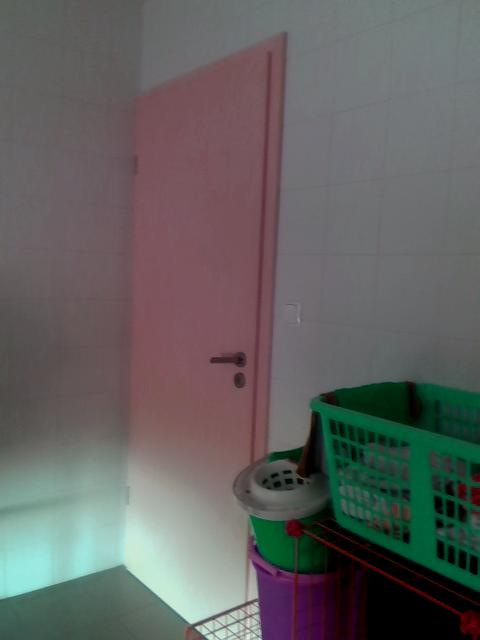closed_door: (121, 31, 288, 639)
